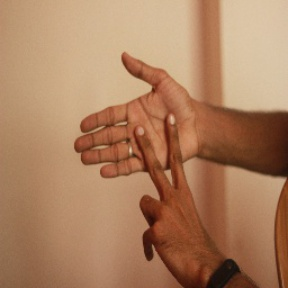N: (72, 48, 219, 245)
